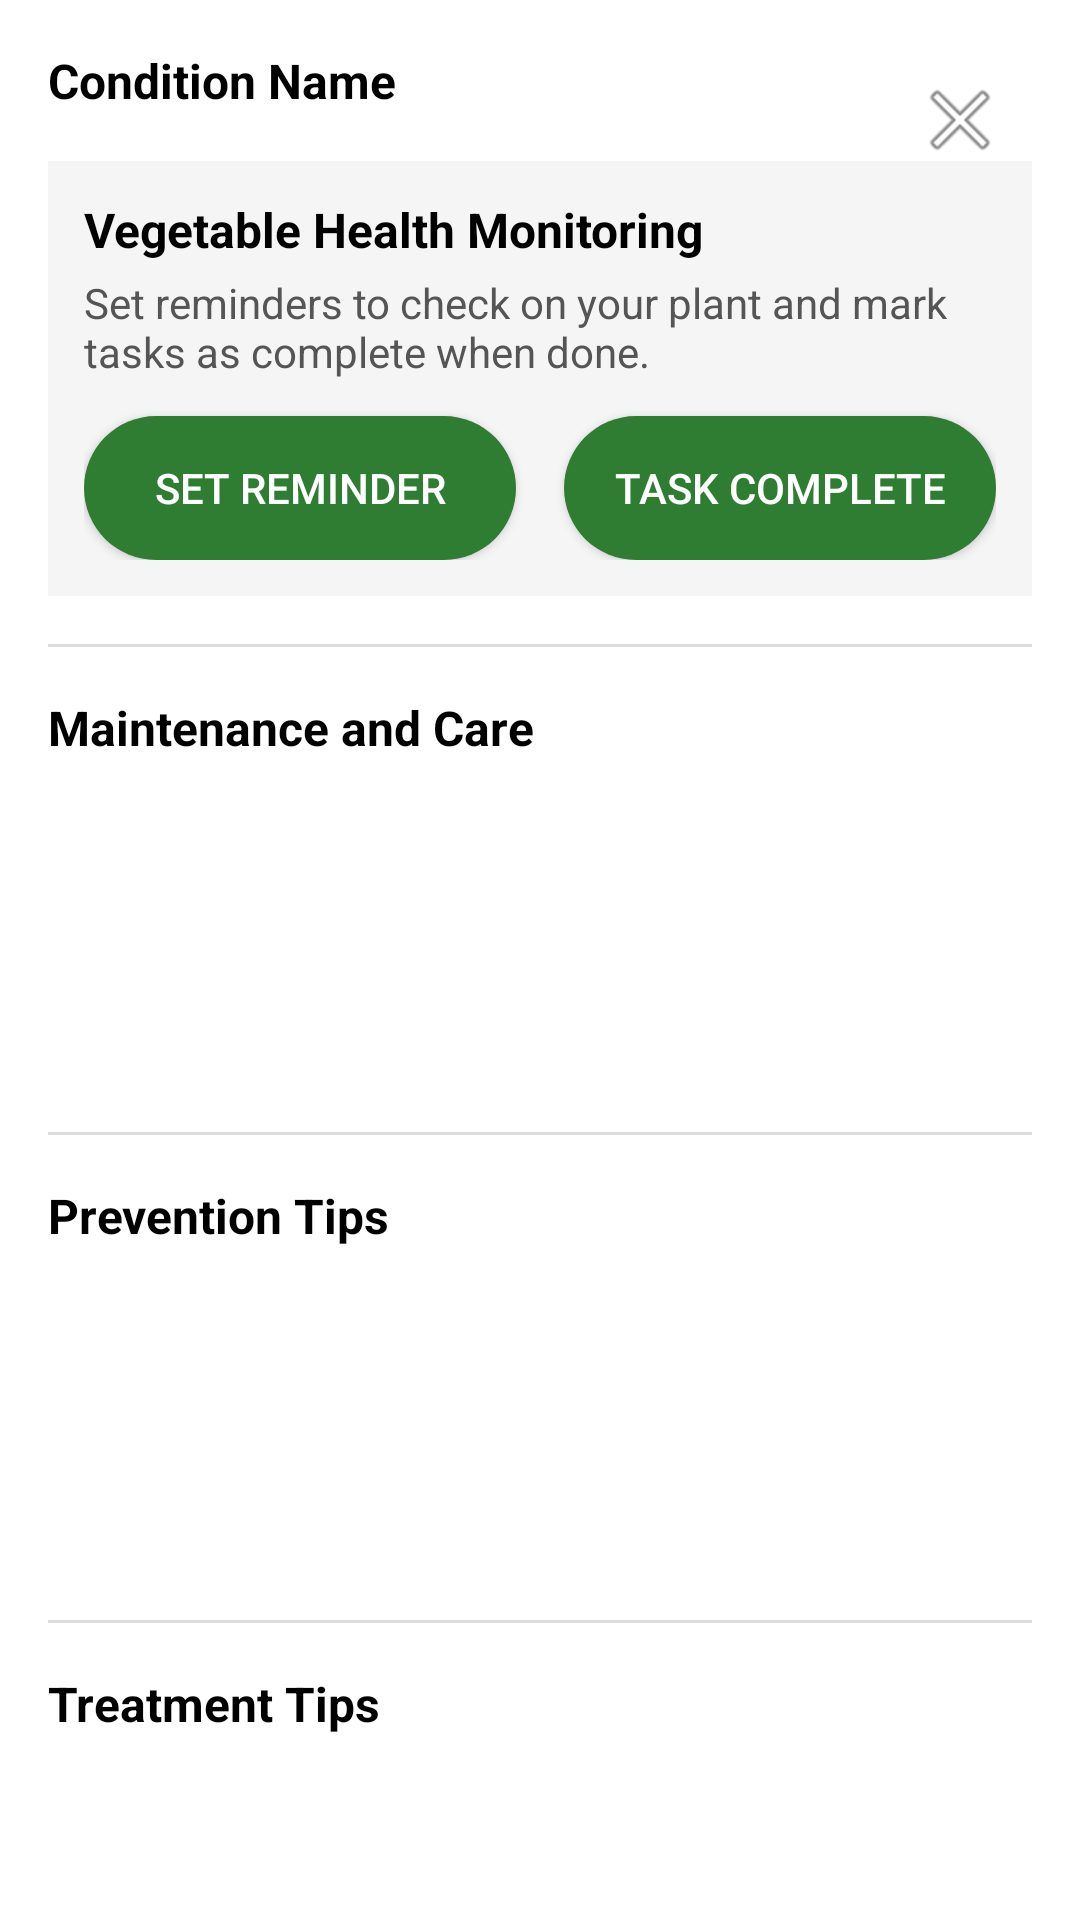

Where to tap for icons on this 1080x1920 app screen, as point (x, y):
Close dialog: point (960, 120)
